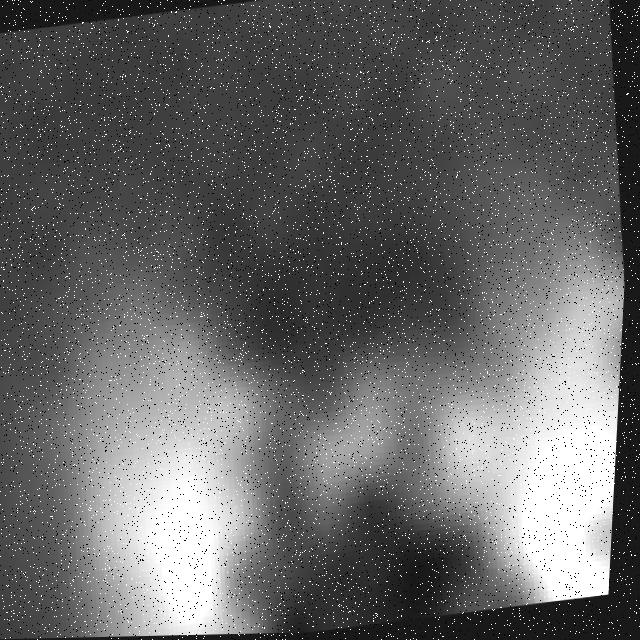person: (259, 23, 640, 635), (1, 214, 306, 640)
